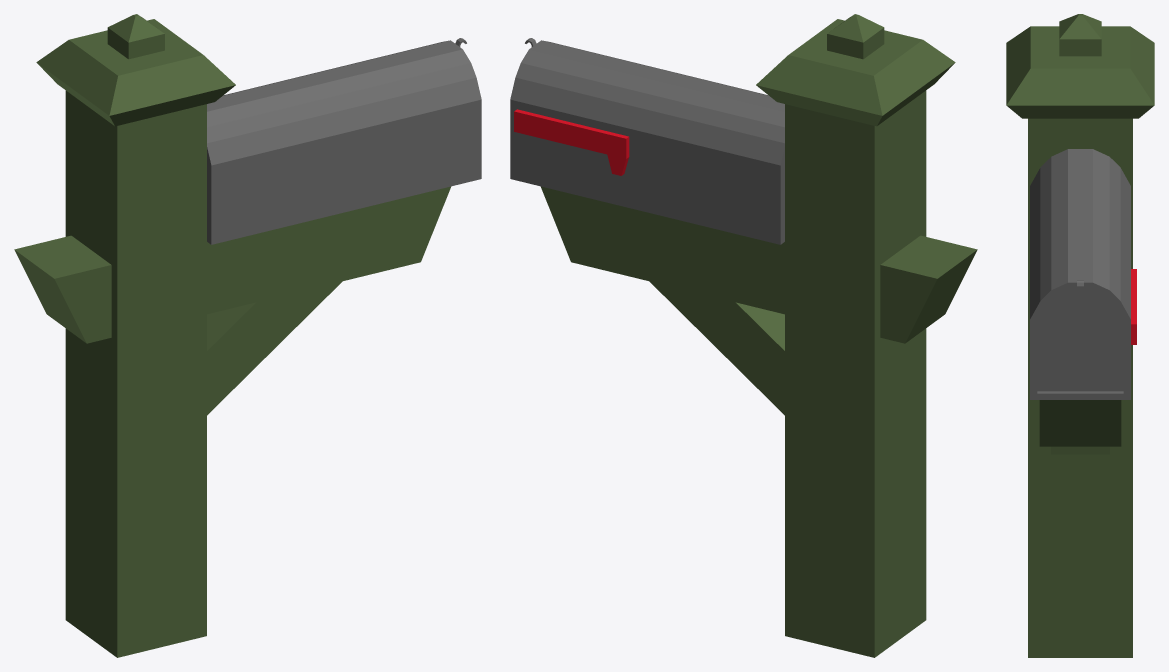
Rendered from mailbox_green.gltf.
3 renders of one model, left to right at view 1: azimuth 30°, elevation 25°; view 2: azimuth 150°, elevation 25°; view 3: azimuth 270°, elevation 25°, orthographic.
Visible parts, largest first — view 1: Cube.264; view 2: Cube.264; view 3: Cube.264.
Boxes of the visible parts, bbox=[...] form: Cube.264: bbox=[14, 14, 481, 657]; Cube.264: bbox=[510, 14, 977, 657]; Cube.264: bbox=[1006, 14, 1154, 657].
Size of the model in its own units: 171 by 233 by 50.37.
